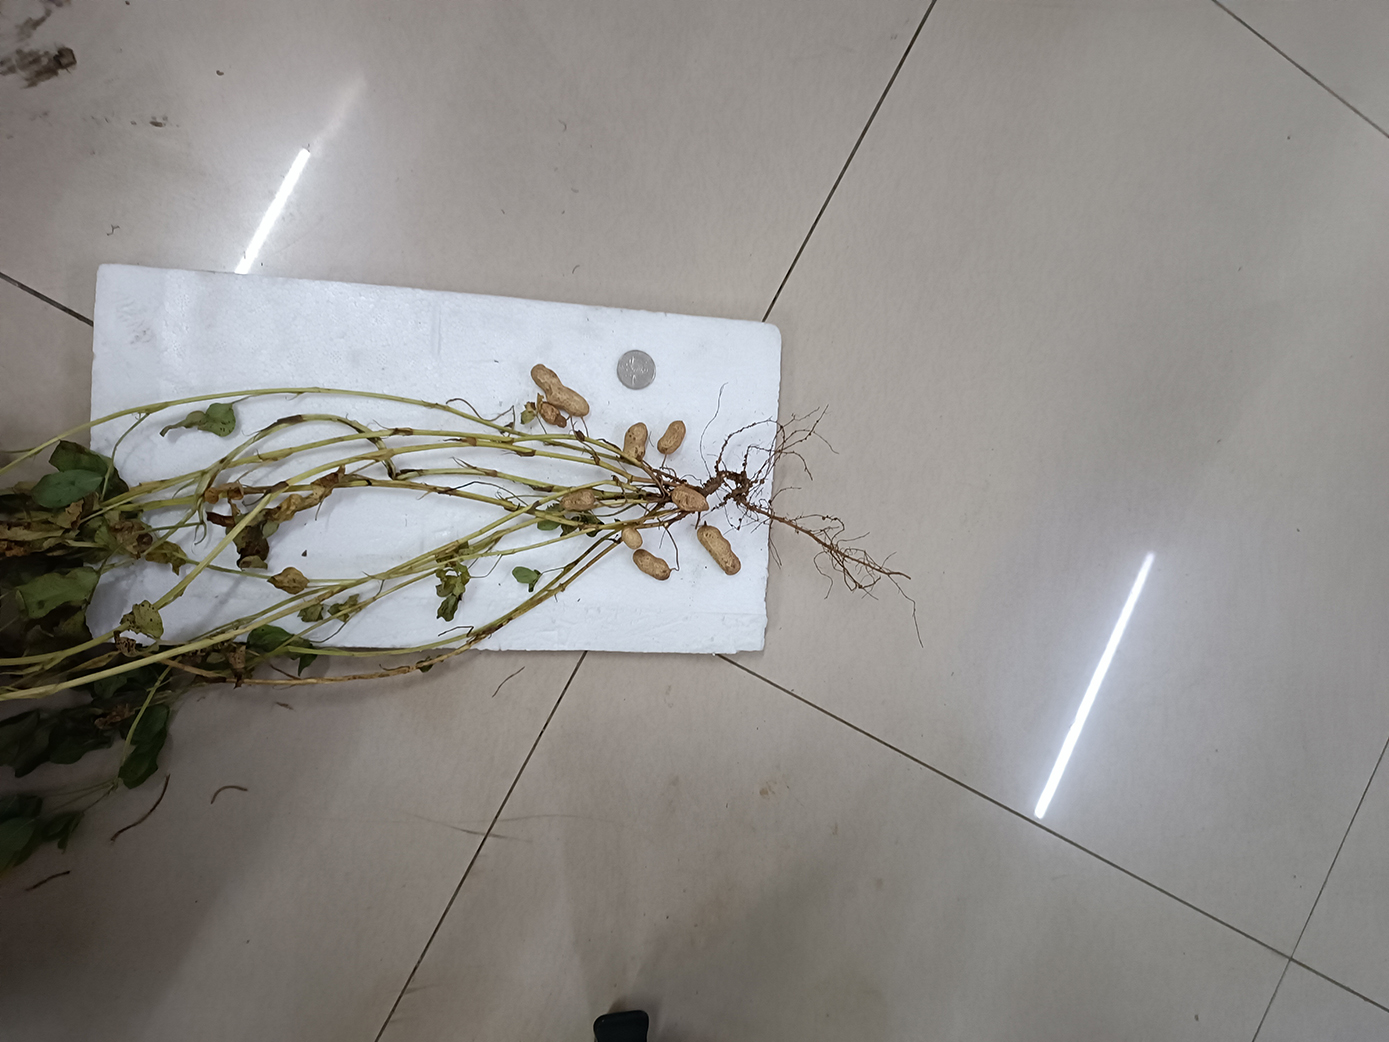h: (530, 363, 590, 417), (697, 524, 741, 576), (632, 549, 672, 581), (656, 419, 685, 455), (671, 487, 710, 513), (623, 422, 648, 459), (562, 488, 597, 511), (620, 526, 643, 549)
l: (539, 403, 568, 428)
